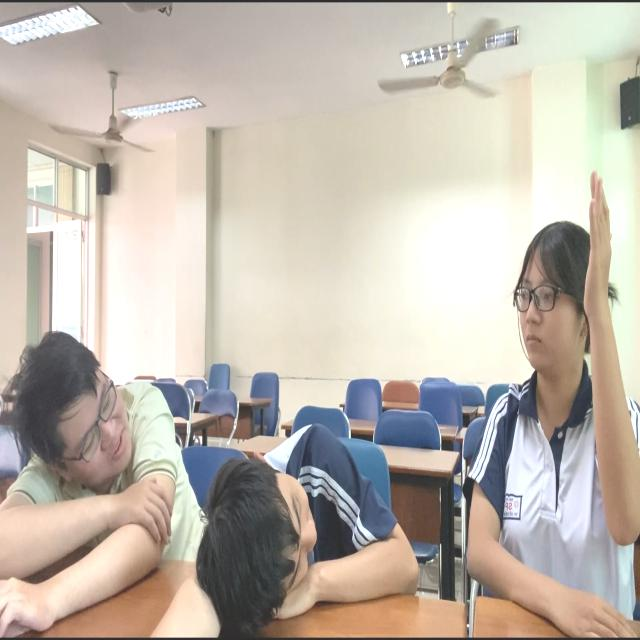raise_hand: (455, 155, 640, 640)
sleep: (202, 386, 428, 640)
